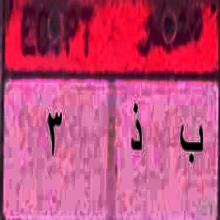3: (45, 102, 64, 162)
baa: (177, 108, 208, 179)
zaal: (126, 94, 148, 164)
